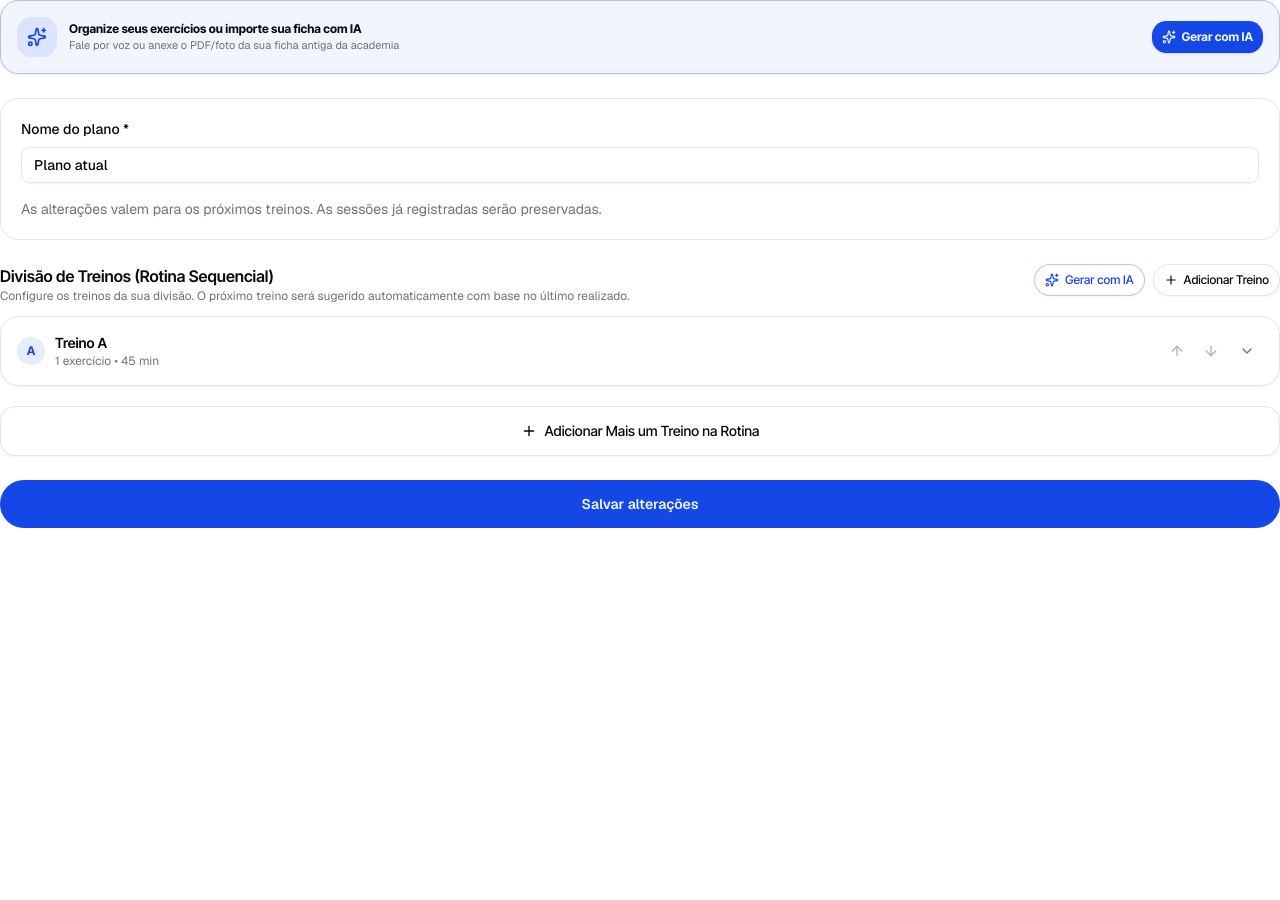
it: Editing saved plans › keeps edits after failure and replaces the canonical ID when selecting another movement
Step 1. Click the button named "Expandir treino" → coordinates (1247, 351), box [1231, 335, 1263, 367]
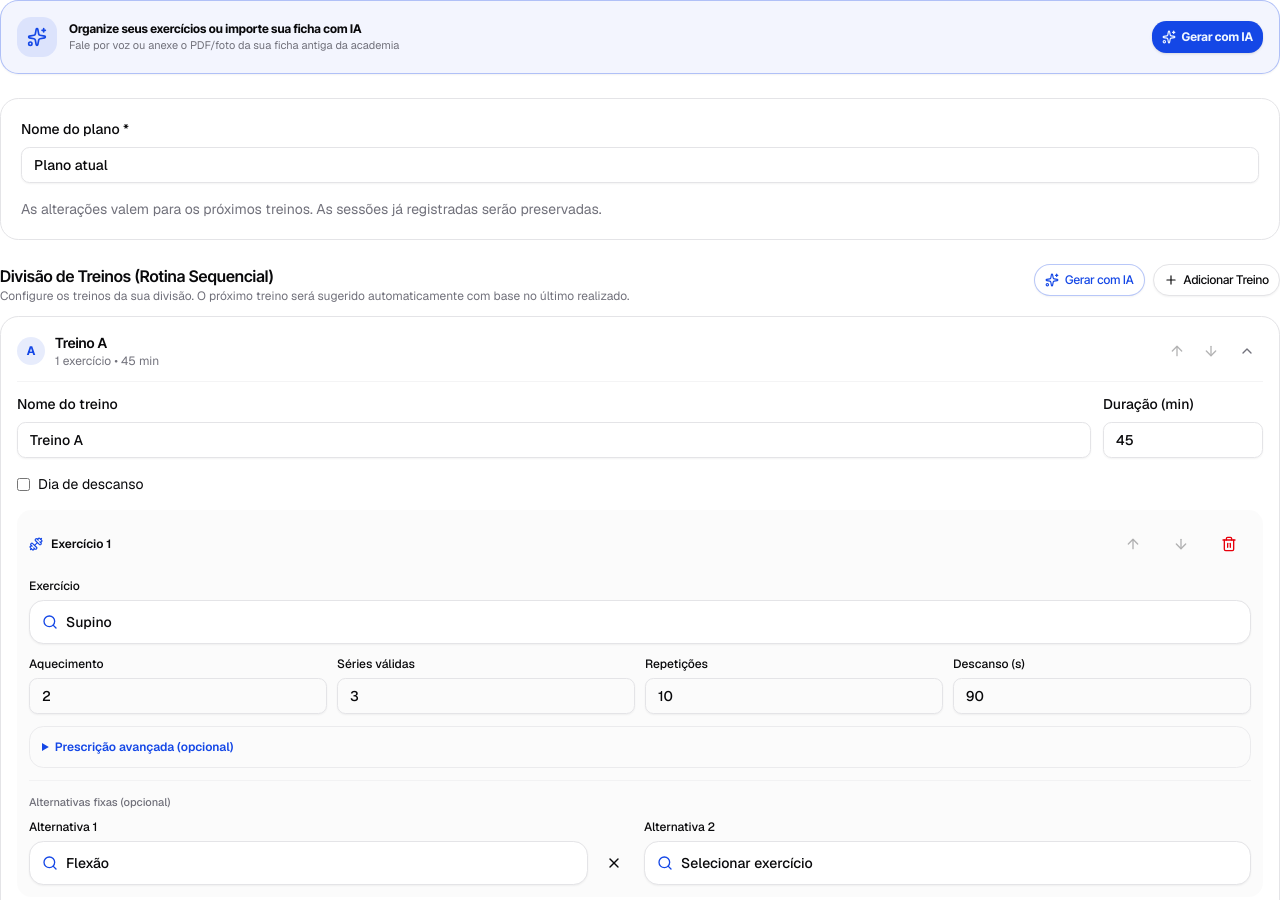
Step 2. Click the button with aria-label "Exercício: Supino" → coordinates (89, 622), box [29, 600, 1251, 644]
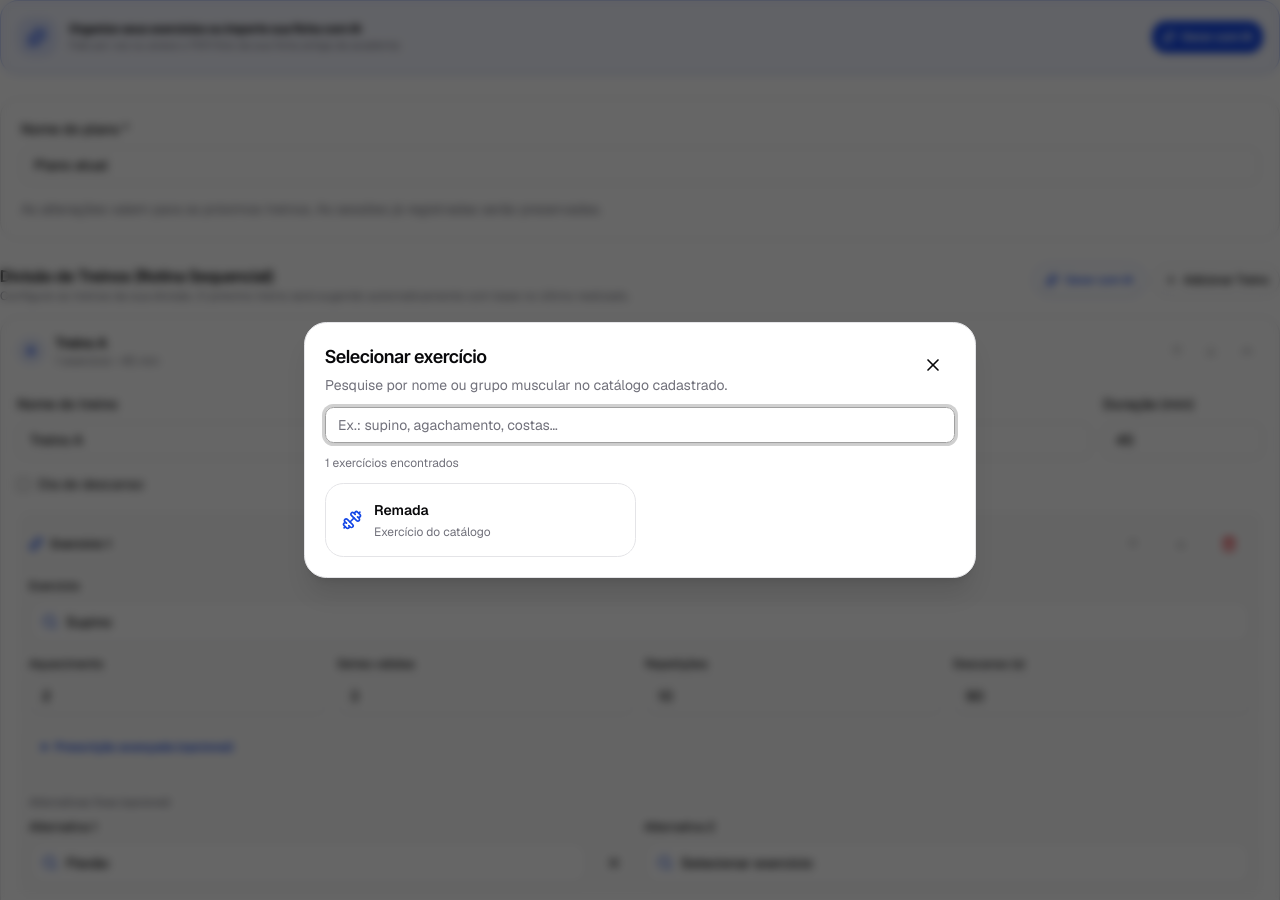
Step 3. Click the button with aria-label "Selecionar Remada" → coordinates (401, 510), box [325, 483, 636, 557]
(page scrolled)
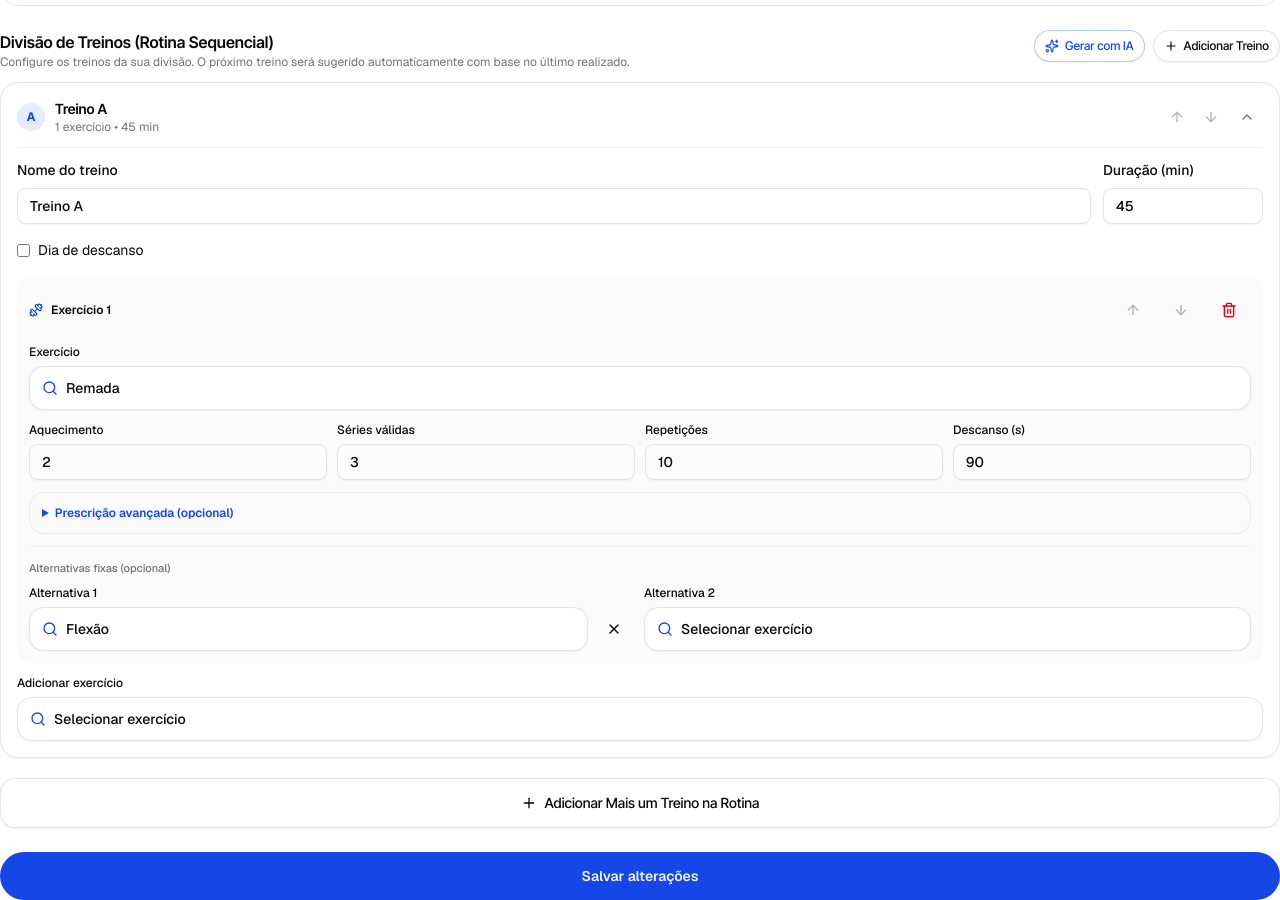
Step 4. Click the button "Salvar alterações" → coordinates (640, 876), box [0, 852, 1279, 899]
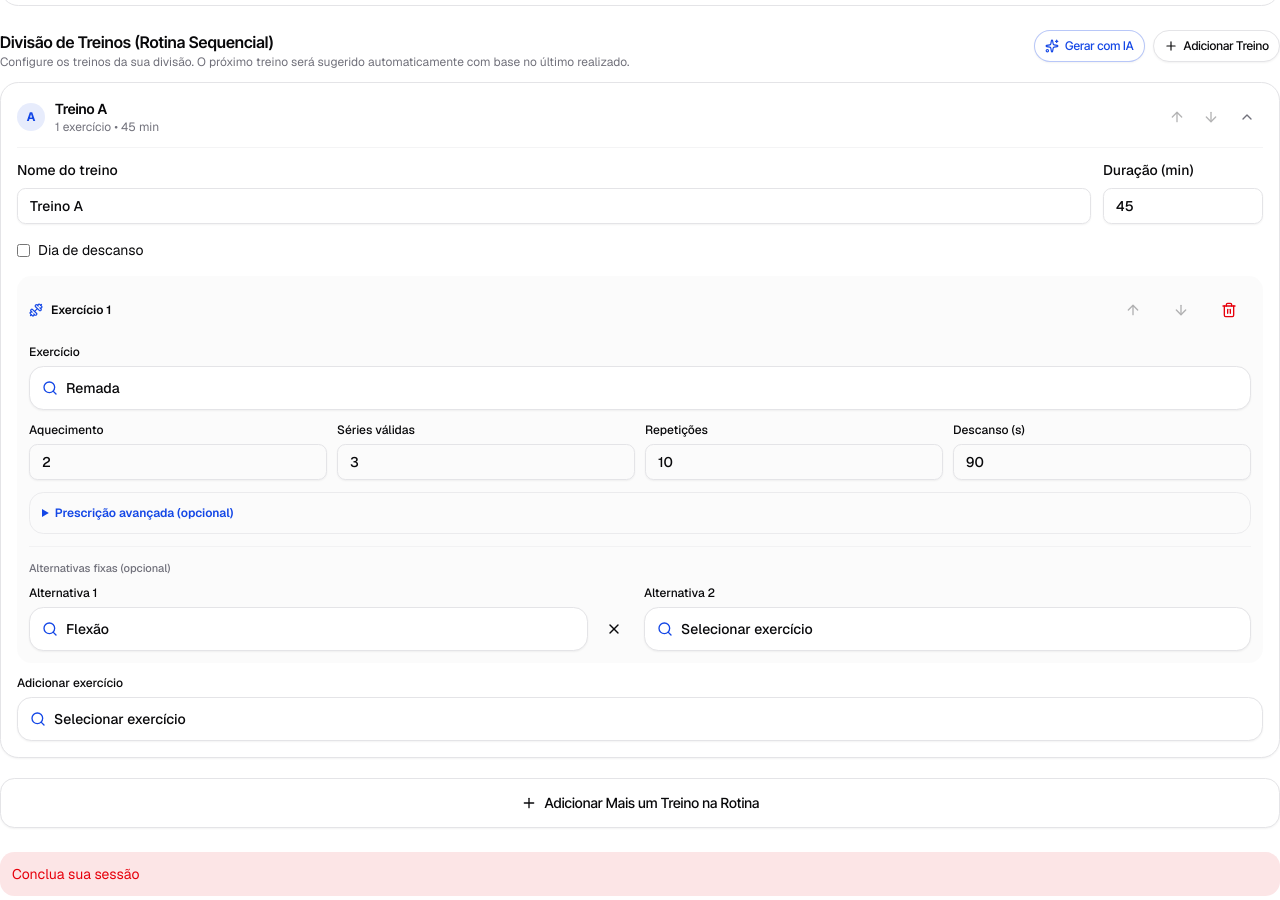
Now the button with aria-label "Exercício: Remada" is shown, box [29, 366, 1251, 410]
Now the message reads "Conclua sua sessão", box [12, 865, 139, 883]
